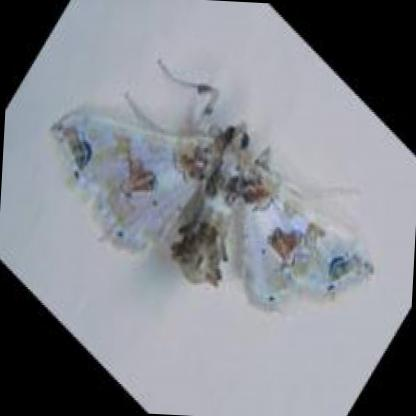leucinodes: (52, 76, 375, 317)
